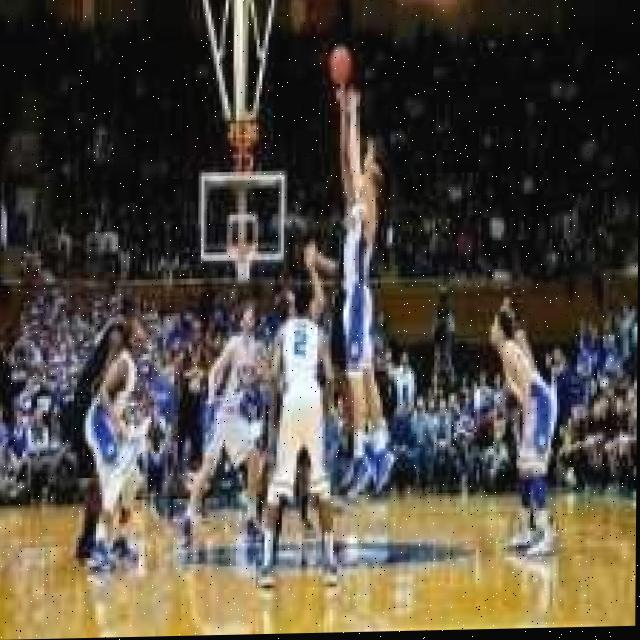basketball: (330, 45, 355, 83)
hoop: (224, 237, 261, 289)
